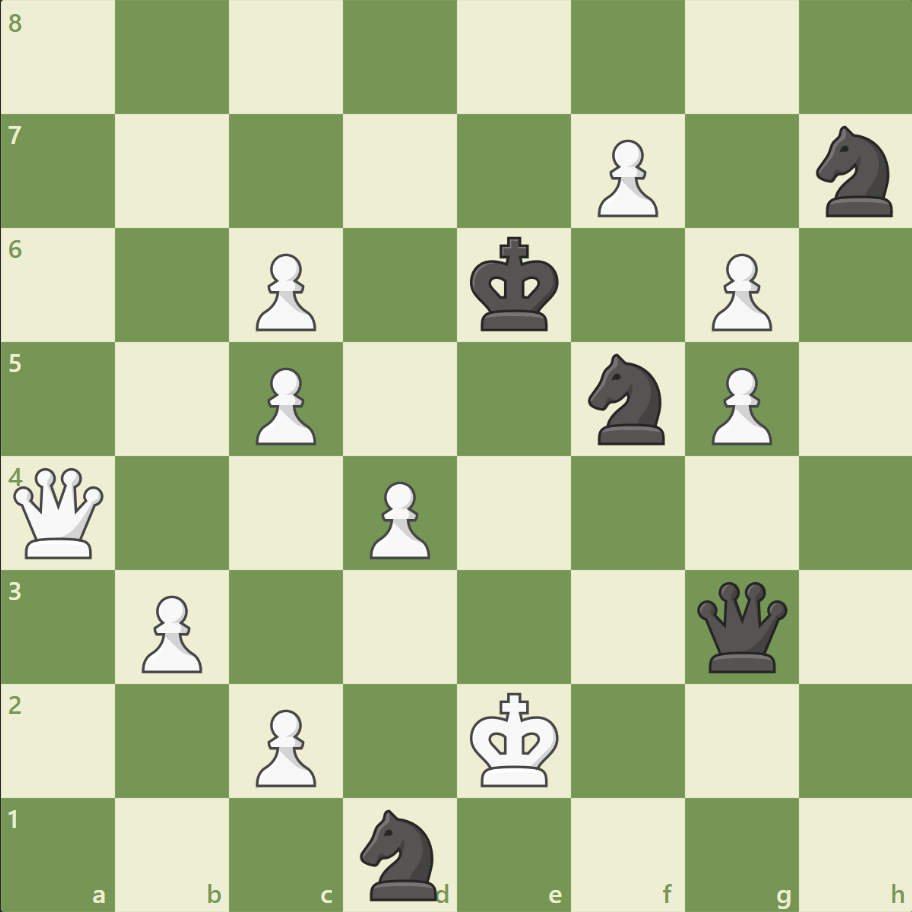K: (465, 685, 565, 793)
P: (247, 246, 322, 337), (701, 246, 776, 337), (247, 359, 322, 450), (701, 359, 776, 450), (133, 586, 208, 677), (247, 700, 322, 791), (588, 132, 662, 223), (361, 473, 435, 564)
Q: (10, 463, 109, 562)
k: (465, 231, 565, 339)
n: (351, 802, 449, 904), (806, 121, 903, 223), (579, 348, 676, 450)
q: (691, 576, 790, 676)
